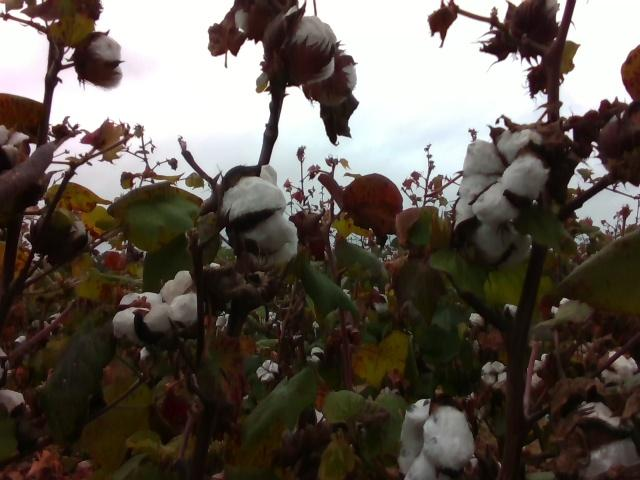cotton_ready: (452, 129, 548, 233), (224, 164, 299, 269), (274, 16, 355, 97), (397, 398, 477, 480), (575, 402, 640, 480), (0, 348, 28, 463), (108, 292, 164, 336), (81, 34, 124, 87), (234, 0, 296, 34), (160, 270, 200, 322), (596, 350, 640, 397), (0, 122, 30, 160)
